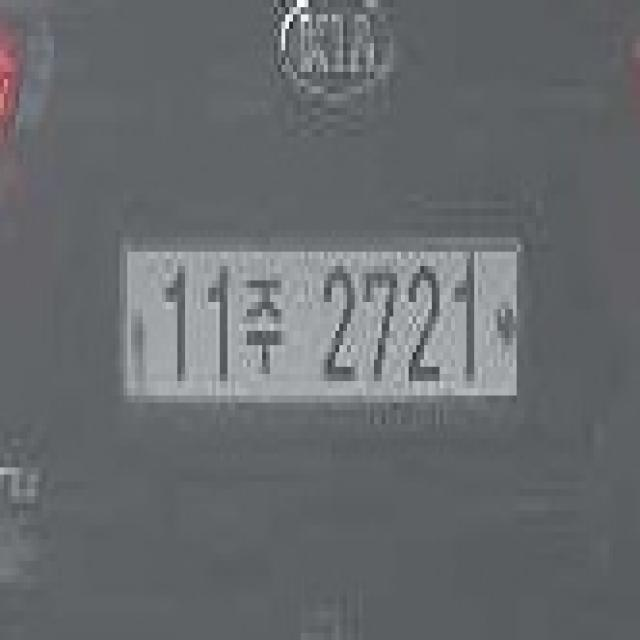1: (154, 252, 201, 402), (443, 252, 486, 396), (197, 259, 239, 403)
2: (401, 252, 451, 396), (316, 252, 359, 396)
7: (359, 252, 401, 402)
ju: (239, 266, 289, 403)
license_plate: (111, 223, 544, 431)
